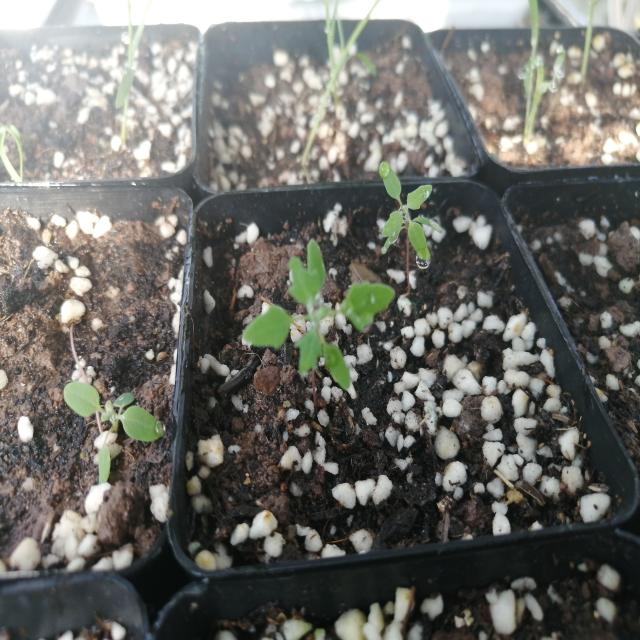goosefoots: (231, 245, 395, 393), (64, 377, 174, 480), (374, 134, 457, 268)
